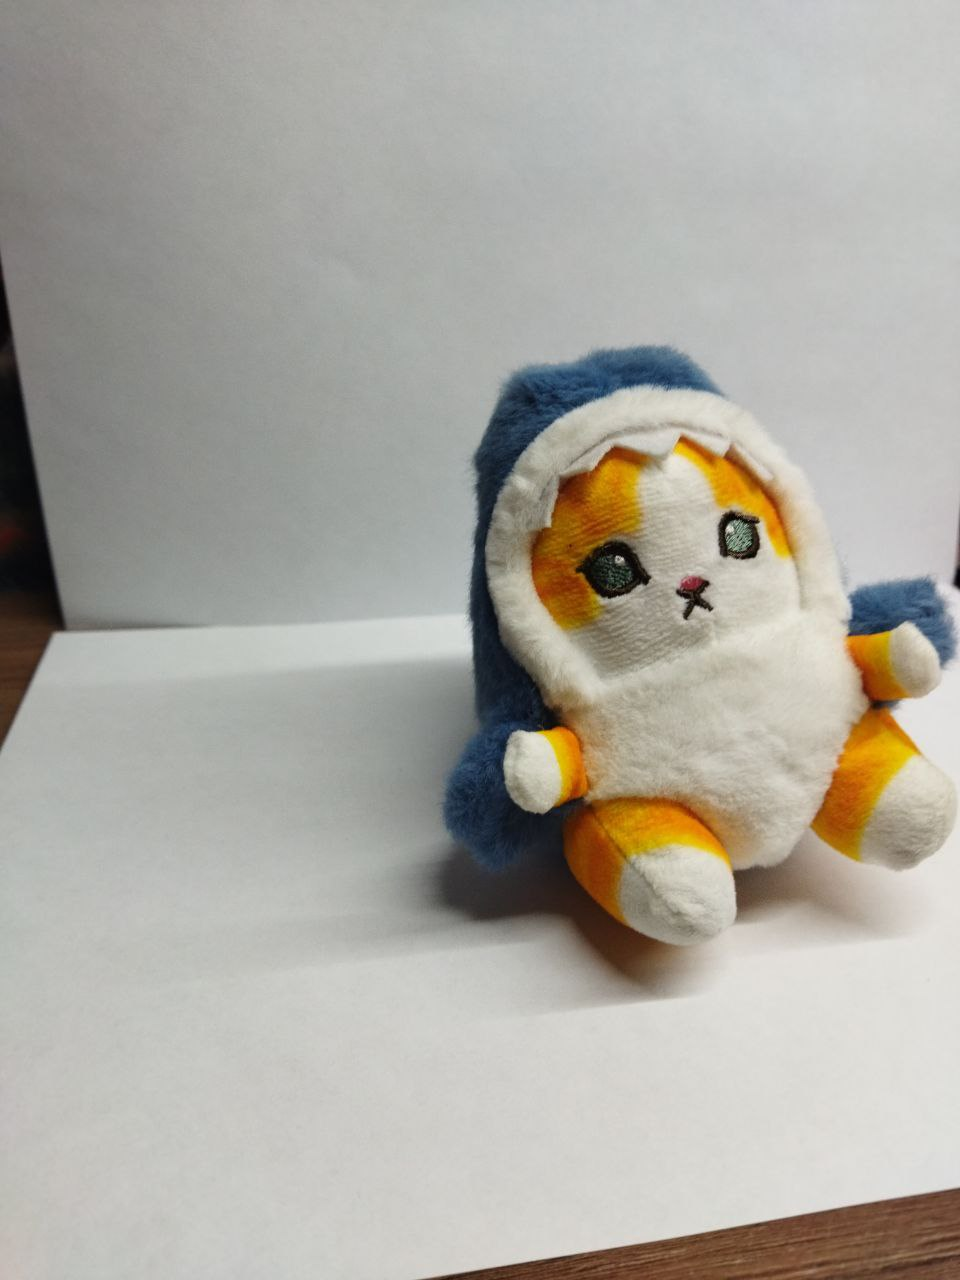Snark Cat: (453, 344, 960, 952)
